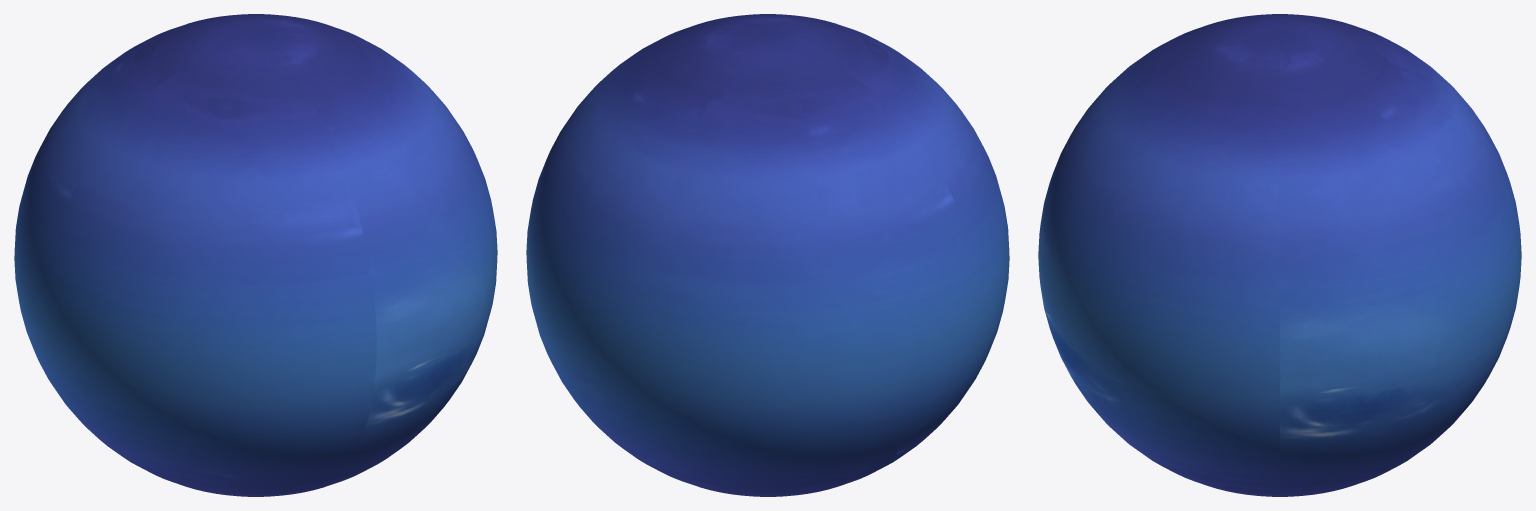
Rendered from neptun_animacja.glb.
The picture shows the model from 3 angles, left to right: view 1: azimuth 30°, elevation 25°; view 2: azimuth 150°, elevation 25°; view 3: azimuth 270°, elevation 25°; orthographic projection.
Parts seen in each view (by area): view 1: Neptune, Neptune.002; view 2: Neptune, Neptune.002; view 3: Neptune.002, Neptune.
Boxes of the visible parts, box(x1,y1,x2,y2) form: Neptune: box(16, 14, 386, 496); Neptune.002: box(14, 15, 497, 489); Neptune: box(526, 19, 1009, 495); Neptune.002: box(530, 14, 977, 496); Neptune.002: box(1038, 14, 1519, 496); Neptune: box(1039, 14, 1521, 496).
Bounding box in the file's own units: 2.02 × 2.02 × 2.02.
Materials: 4 (2 with a texture image).
